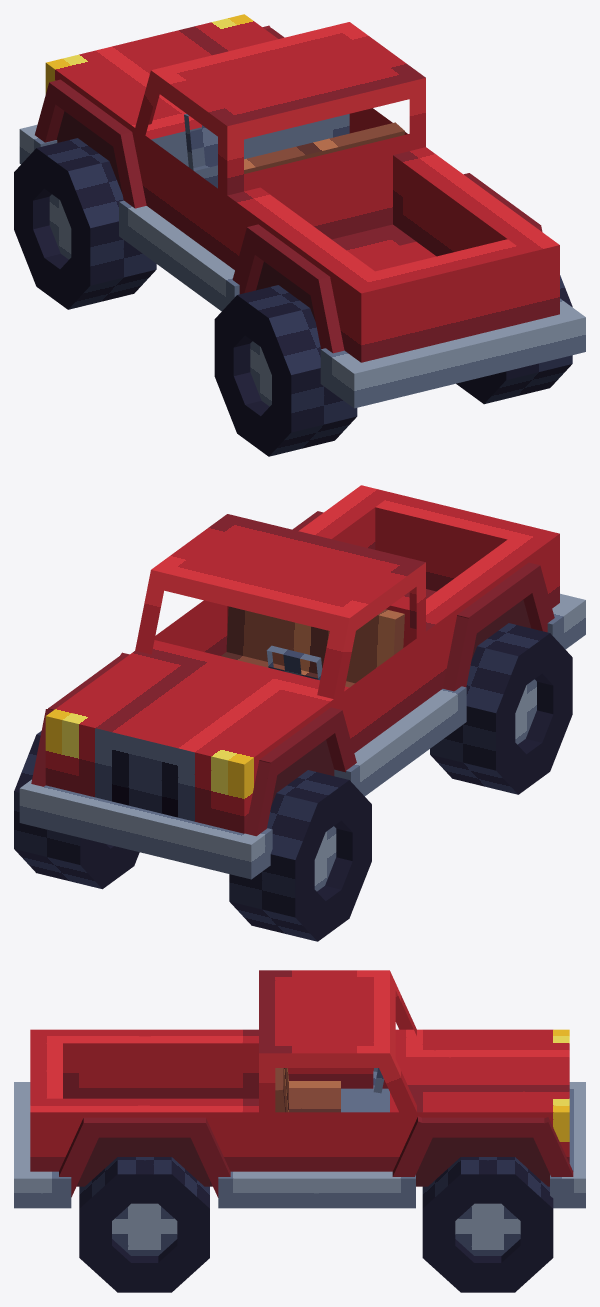
3 renders of one model, top to bottom at view 1: azimuth 30°, elevation 25°; view 2: azimuth 150°, elevation 25°; view 3: azimuth 270°, elevation 25°, orthographic. The views are drawn at different scales.
Visible parts, largest first — view 1: cube (×18), octagon (×20); view 2: cube (×18), octagon (×21); view 3: cube (×18), octagon (×18).
Boxes of the visible parts, x1,y1,x2,y2 form: cube (×18): (19, 14, 585, 408); octagon (×20): (14, 138, 572, 456); cube (×18): (19, 485, 585, 879); octagon (×21): (14, 623, 572, 941); cube (×18): (14, 970, 585, 1208); octagon (×18): (79, 1157, 553, 1292).
Size of the model in its own units: 1.06 by 0.9375 by 2.19.
Materials: 1 (1 with a texture image).
